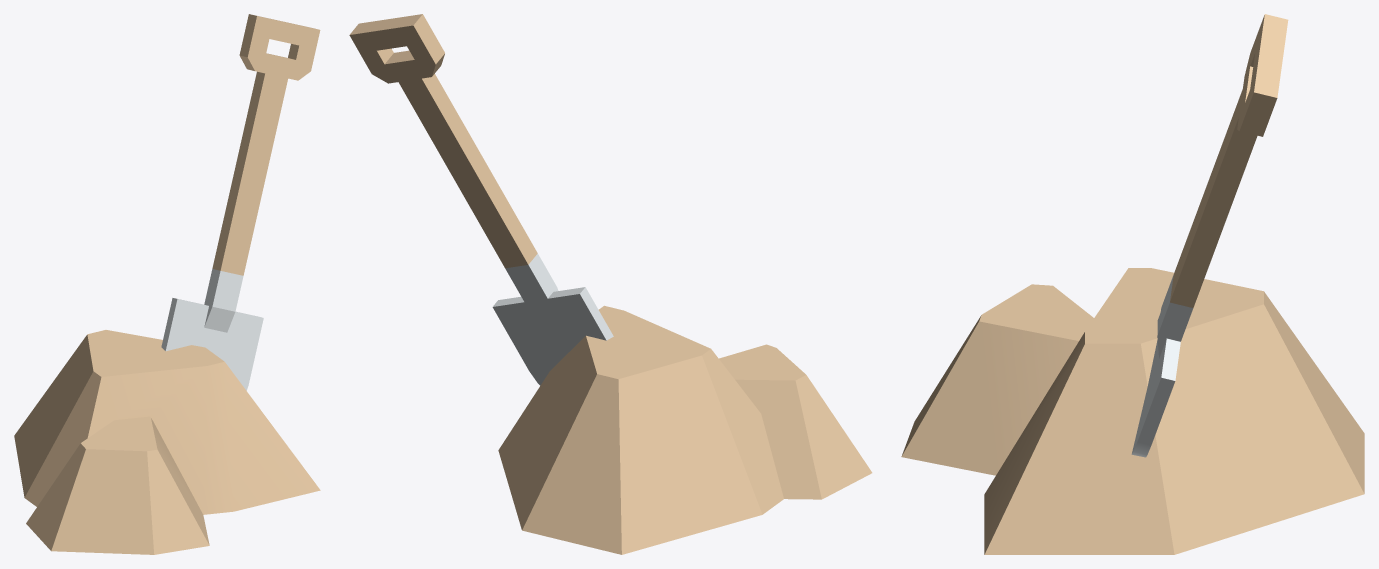
Rendered from shovelDirt.glb.
3 views of the same model, side by side, from view 1: azimuth 30°, elevation 25°; view 2: azimuth 150°, elevation 25°; view 3: azimuth 270°, elevation 25° (orthographic). The views are drawn at different scales.
Parts seen in each view (by area): view 1: shovelDirt(Clone); view 2: shovelDirt(Clone); view 3: shovelDirt(Clone).
Boxes of the visible parts, <box> form: shovelDirt(Clone): <box>14,14,320,554</box>; shovelDirt(Clone): <box>349,14,872,554</box>; shovelDirt(Clone): <box>901,14,1364,554</box>.
Size of the model in its own units: 0.6465 by 0.6804 by 0.5057.
